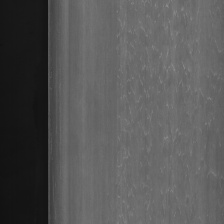silk_spot: (114, 7, 220, 220)
